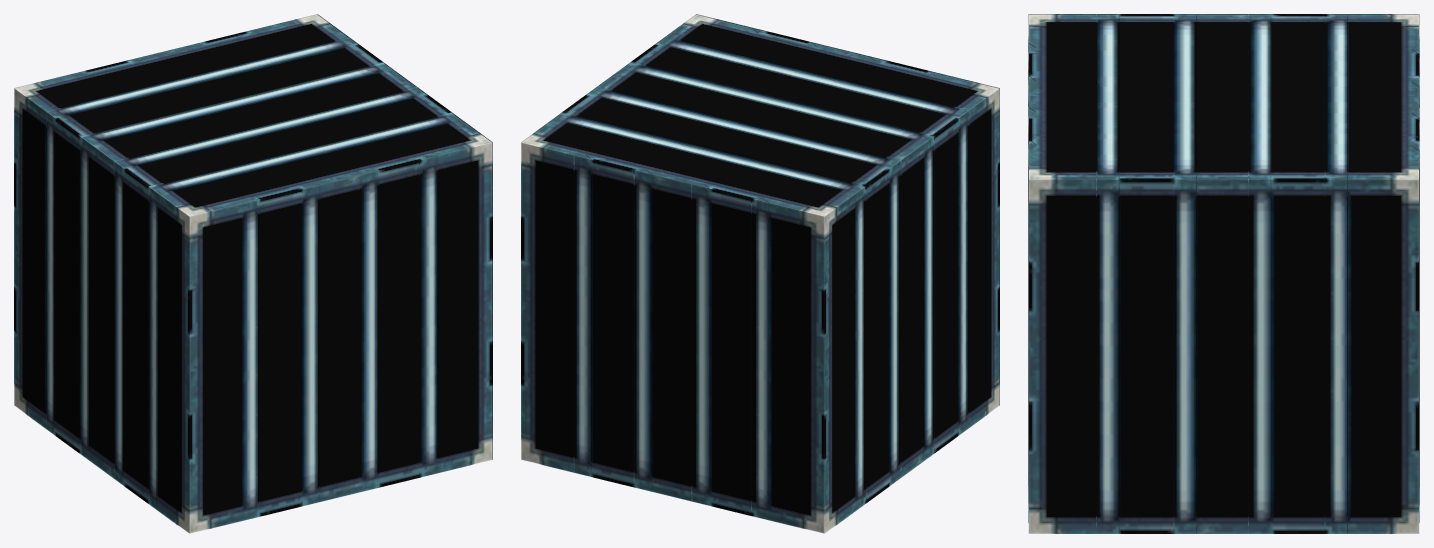
Rendered from cage2.obj.
3 views of the same model, side by side, from view 1: azimuth 30°, elevation 25°; view 2: azimuth 150°, elevation 25°; view 3: azimuth 270°, elevation 25° (orthographic). The views are drawn at different scales.
Visible parts, largest first — view 1: Object_3, Object_1, Object_2; view 2: Object_3, Object_1, Object_2; view 3: Object_3, Object_1, Object_2.
Part boxes in pixels (left/top/right/bottom): Object_3: left=14, top=15, right=492, bottom=533; Object_1: left=46, top=27, right=462, bottom=520; Object_2: left=14, top=14, right=492, bottom=533; Object_3: left=521, top=15, right=999, bottom=533; Object_1: left=553, top=28, right=969, bottom=519; Object_2: left=521, top=14, right=999, bottom=533; Object_3: left=1029, top=15, right=1418, bottom=533; Object_1: left=1028, top=14, right=1419, bottom=533; Object_2: left=1028, top=14, right=1419, bottom=533.
Size of the model in its own units: 20 by 20 by 20.
